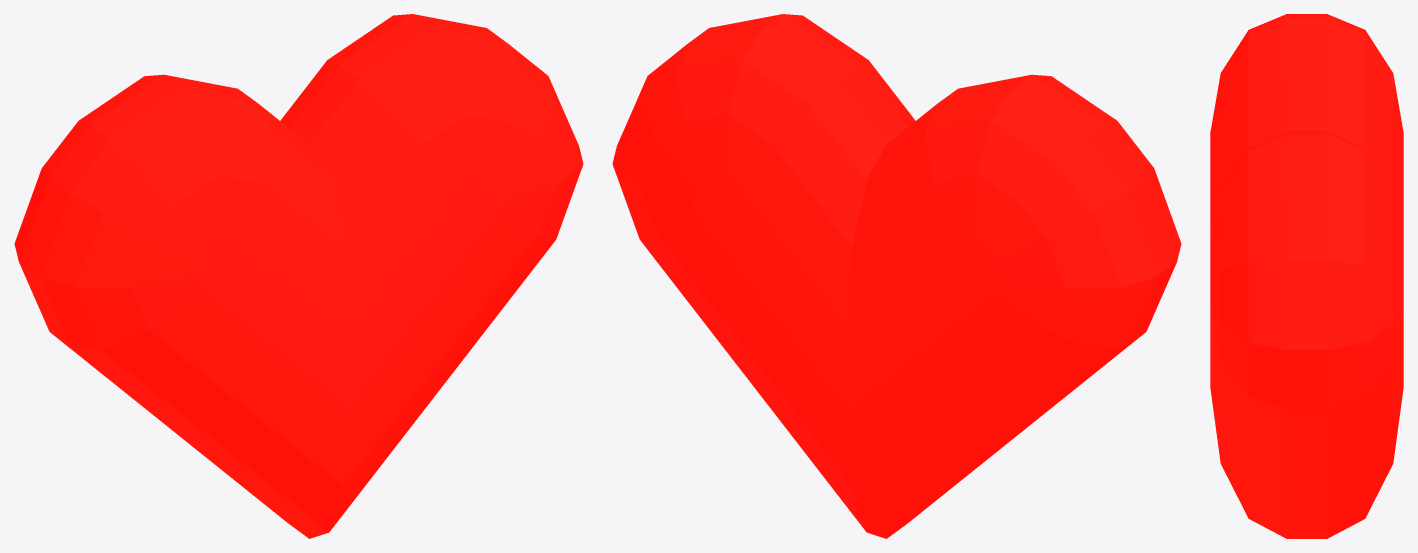
Rendered from heart.glb.
The picture shows the model from 3 angles, left to right: view 1: azimuth 30°, elevation 25°; view 2: azimuth 150°, elevation 25°; view 3: azimuth 270°, elevation 25°; orthographic projection. The views are drawn at different scales.
Visible parts, largest first — view 1: Heart; view 2: Heart; view 3: Heart.
Part boxes in pixels (left/top/right/bottom): Heart: left=14, top=14, right=583, bottom=538; Heart: left=612, top=14, right=1181, bottom=538; Heart: left=1210, top=14, right=1403, bottom=538.
Bounding box in the file's own units: 31.47 × 26.73 × 10.12.
